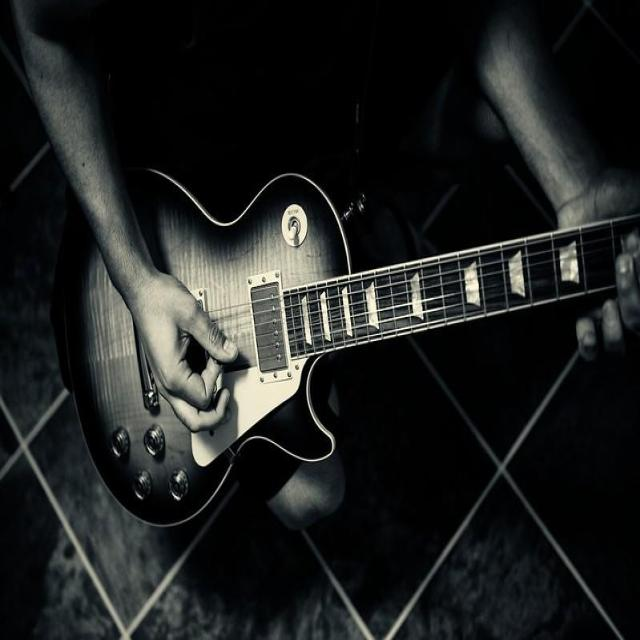guitar: (65, 170, 639, 524)
